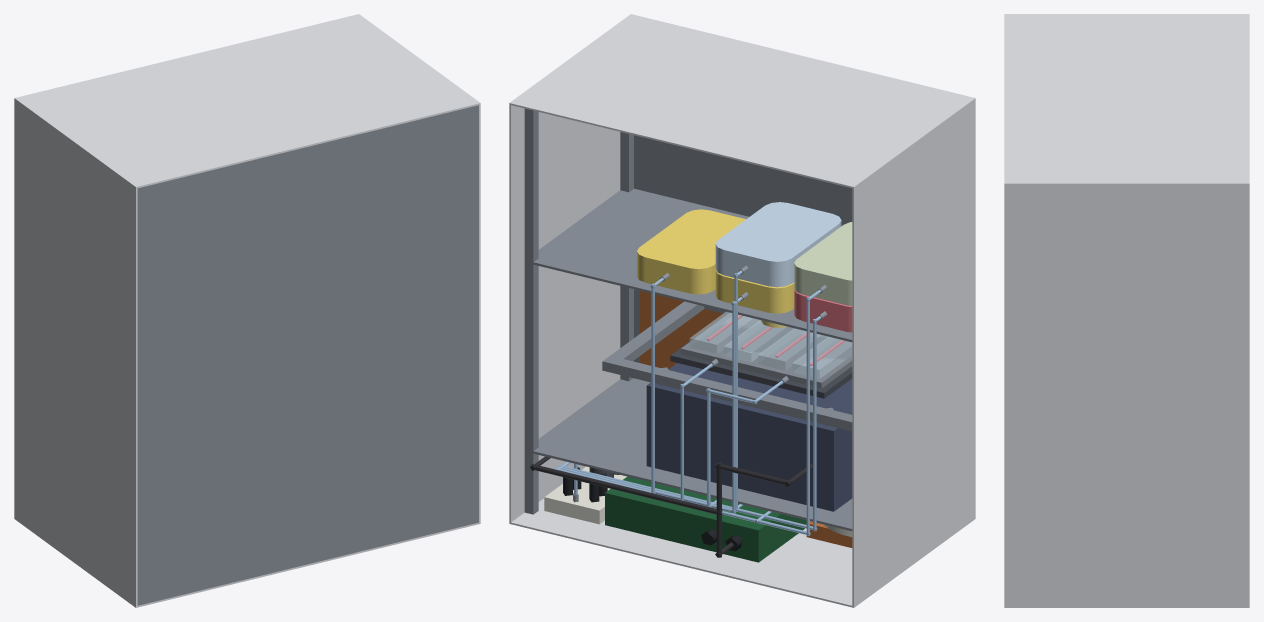
The model's file is MOD-microfluidics.glb.
3 renders of one model, left to right at view 1: azimuth 30°, elevation 25°; view 2: azimuth 150°, elevation 25°; view 3: azimuth 270°, elevation 25°, orthographic.
Parts seen in each view (by area): view 1: housing__back_panel_bay_interface, housing__side_panel_L, housing__top_panel, housing__bottom_panel, housing__side_panel_R; view 2: housing__side_panel_L, housing__top_panel, housing__side_panel_R, imaging__microscope_base_optics_filter_cubes_camera, housing__bottom_panel, housing__shelf_2, housing__shelf_1, housing__back_panel_bay_interface, electronics__controller_enclosure_boards_data_storage, fluid__RNA_stabilising_reagent_120_mL, sample__SBS_format_chip_holder_with_fluidic_manifold, housing__corner_post_4 (+19 smaller); view 3: housing__side_panel_R, housing__top_panel, housing__bottom_panel.
Part boxes in pixels (<box>): housing__back_panel_bay_interface: <box>137,105,478,605</box>; housing__side_panel_L: <box>14,100,137,605</box>; housing__top_panel: <box>14,14,480,188</box>; housing__bottom_panel: <box>14,517,480,607</box>; housing__side_panel_R: <box>479,105,480,522</box>; housing__side_panel_L: <box>852,100,975,605</box>; housing__top_panel: <box>509,14,975,188</box>; housing__side_panel_R: <box>509,105,620,522</box>; imaging__microscope_base_optics_filter_cubes_camera: <box>646,363,852,511</box>; housing__bottom_panel: <box>509,498,975,607</box>; housing__shelf_2: <box>524,188,852,342</box>; housing__shelf_1: <box>524,378,852,531</box>; housing__back_panel_bay_interface: <box>634,135,852,362</box>; electronics__controller_enclosure_boards_data_storage: <box>605,476,806,562</box>; fluid__RNA_stabilising_reagent_120_mL: <box>715,202,841,287</box>; sample__SBS_format_chip_holder_with_fluidic_manifold: <box>681,313,852,388</box>; housing__corner_post_4: <box>524,108,538,514</box>; housing__side_panel_R: <box>1004,185,1249,606</box>; housing__top_panel: <box>1004,14,1249,185</box>; housing__bottom_panel: <box>1004,606,1249,607</box>.
Size of the model in its own units: 0.313 by 0.3652 by 0.1913.
